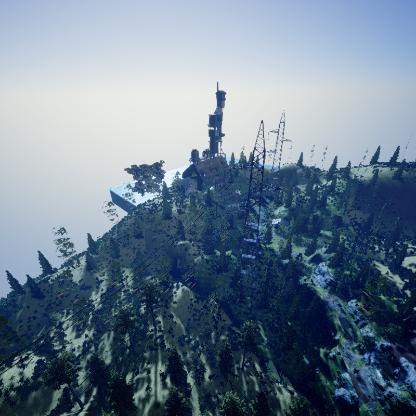tower: (233, 117, 278, 283), (266, 111, 297, 178)
